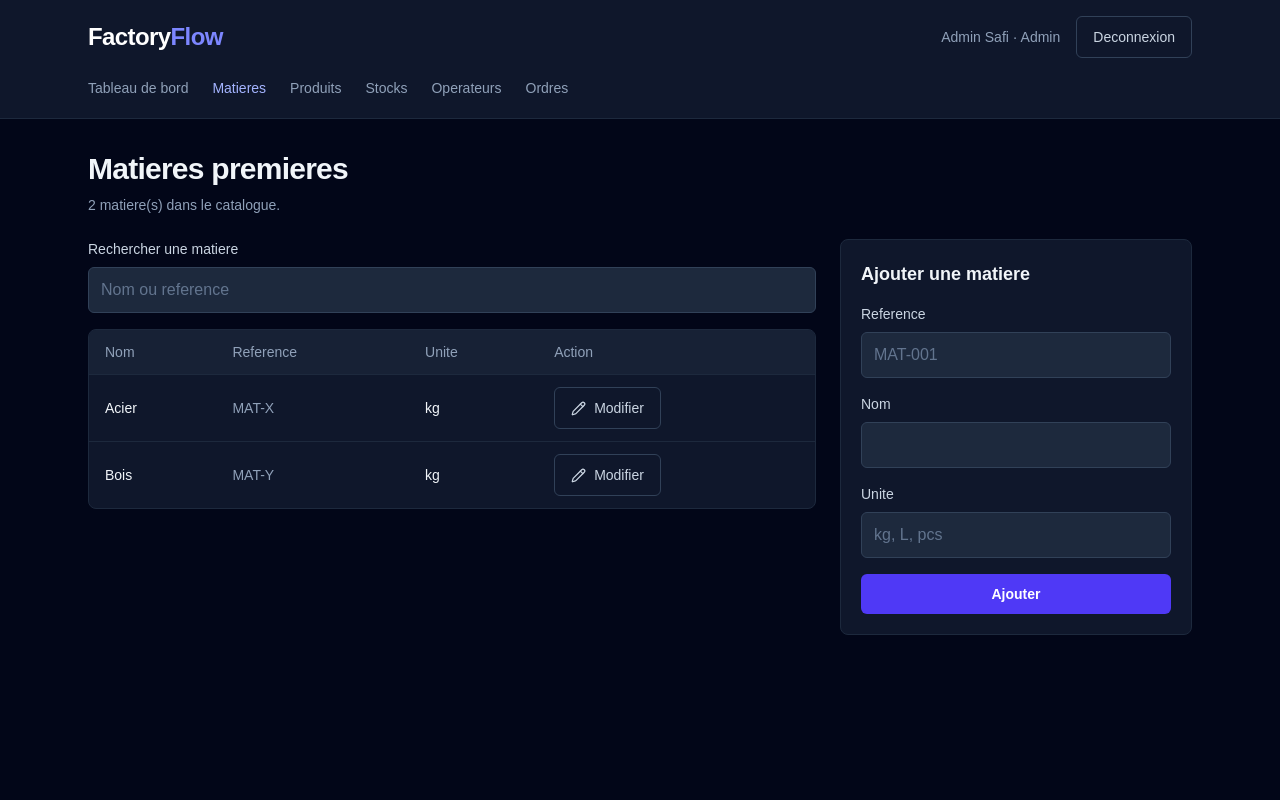
Scenario: material search and editing update the selected row
Expected: the button with aria-label "Modifier Acier" is shown, [554, 387, 661, 429]
Type "MAT-X" into the search field labelled "Rechercher une matiere" at (452, 290), box [88, 267, 816, 313]
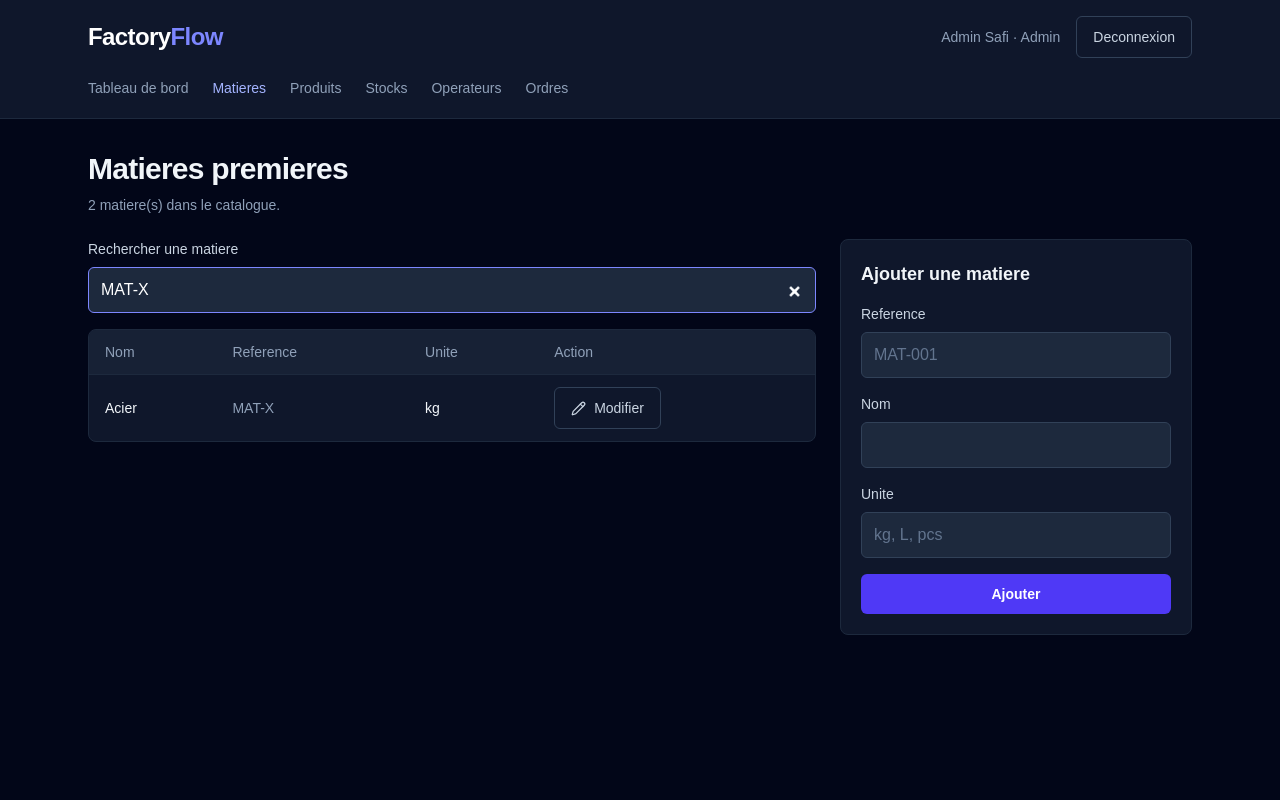
Now the table "Modifier Bois" is gone
Click the button with aria-label "Modifier Acier" at (608, 408), box [554, 387, 661, 429]
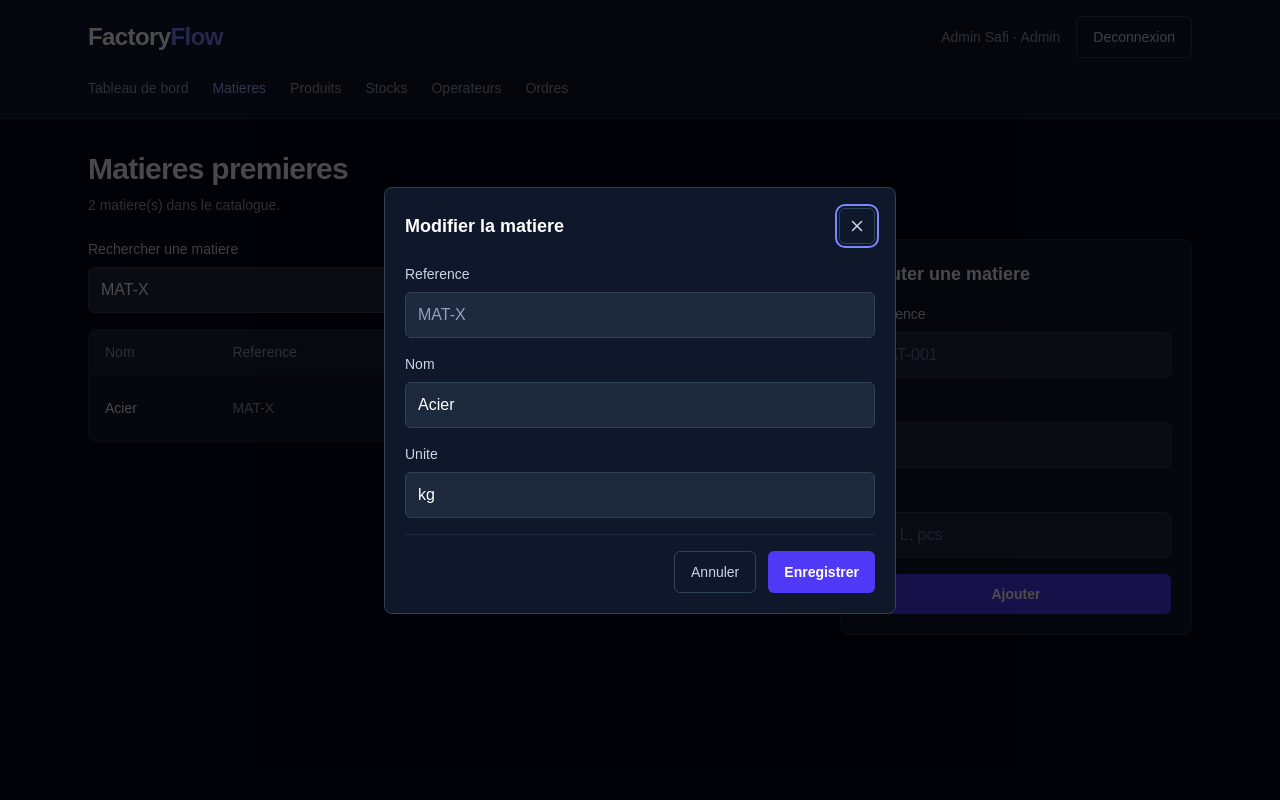
Replace the text in the field labelled "Nom" with "Acier inox" at (640, 404), box [405, 382, 875, 428]
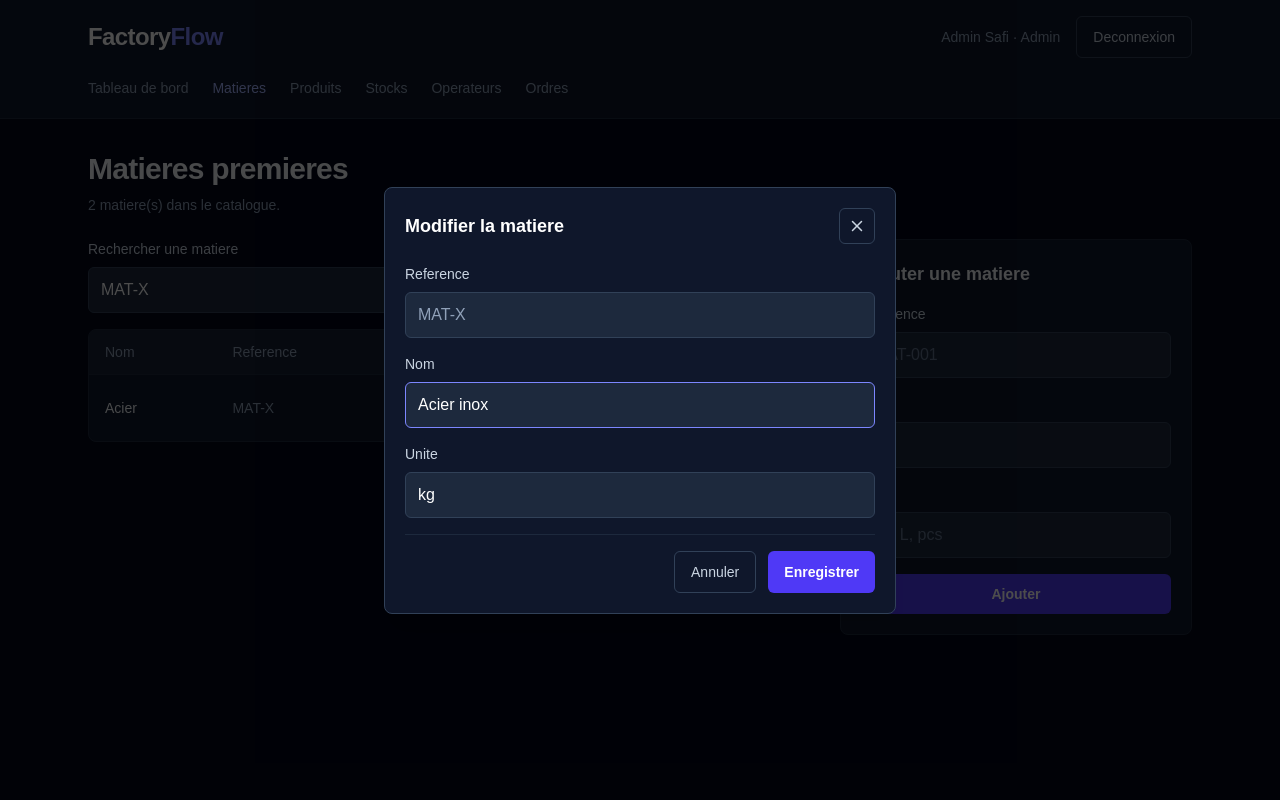
Click the button "Enregistrer" at (822, 572), box [768, 550, 875, 592]
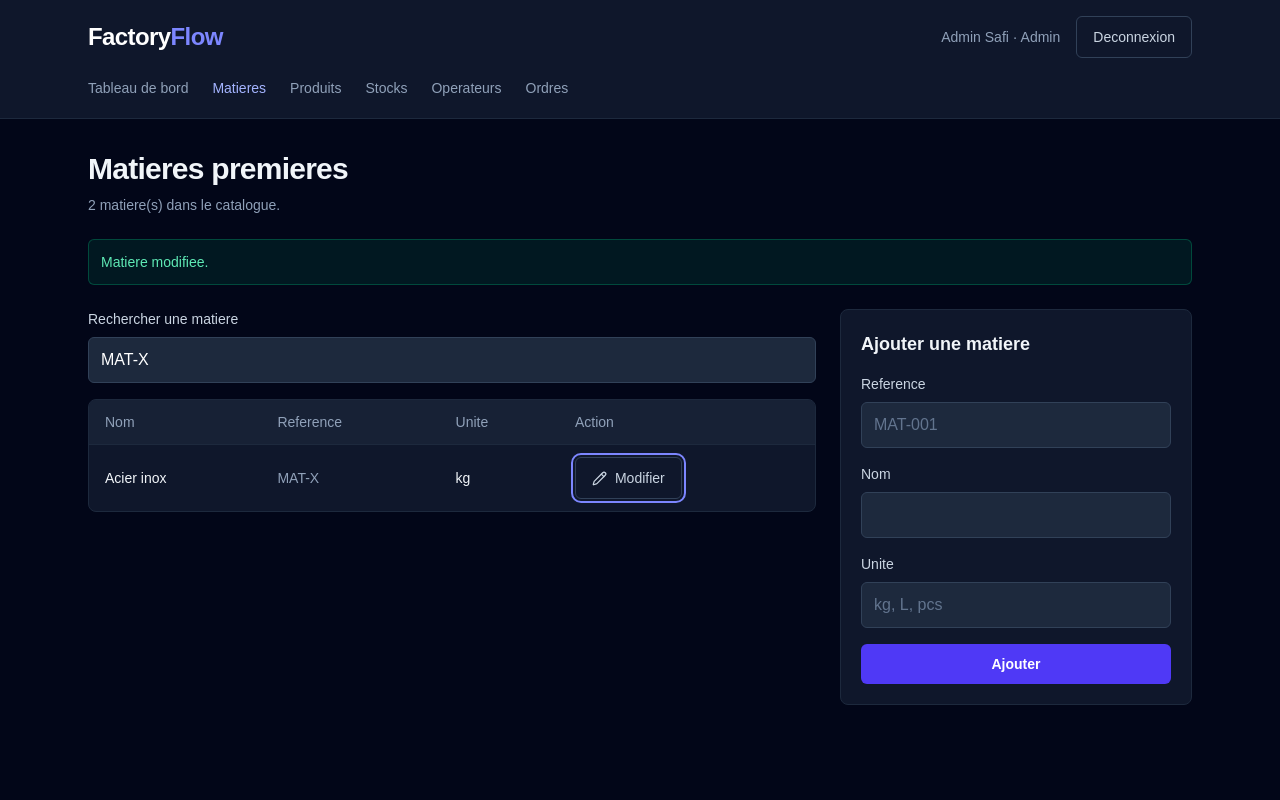
Now the dialog is gone
Now the button with aria-label "Modifier Acier inox" is shown, box [575, 457, 682, 499]
